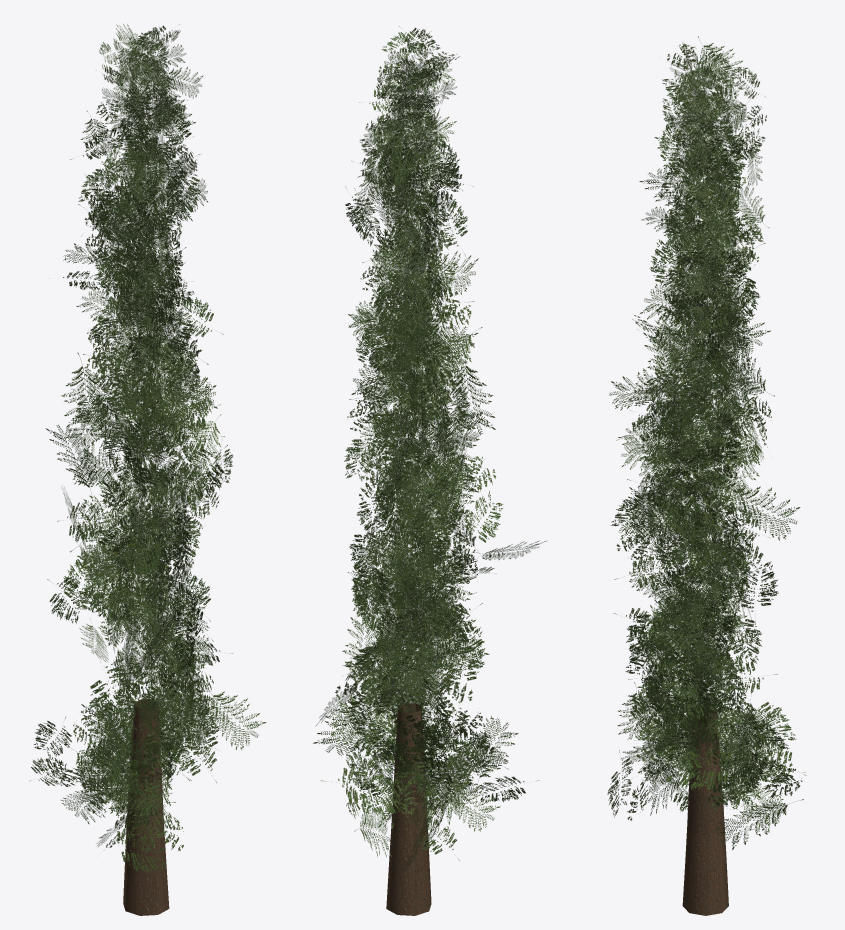
The model's file is cypress_1.glb.
The picture shows the model from 3 angles, left to right: view 1: azimuth 30°, elevation 25°; view 2: azimuth 150°, elevation 25°; view 3: azimuth 270°, elevation 25°; orthographic projection. The views are drawn at different scales.
Visible parts, largest first — view 1: cypress; view 2: cypress; view 3: cypress.
Part boxes in pixels (x1=…): cypress: x1=29, y1=24, x2=266, y2=915; cypress: x1=313, y1=26, x2=547, y2=915; cypress: x1=607, y1=36, x2=806, y2=915.
Size of the model in its own units: 2.8 by 12.44 by 3.16.
2 materials, 2 textured.
